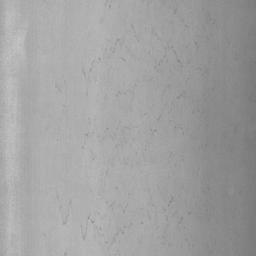Silk spot: (105, 226, 126, 245), (154, 55, 168, 72)
